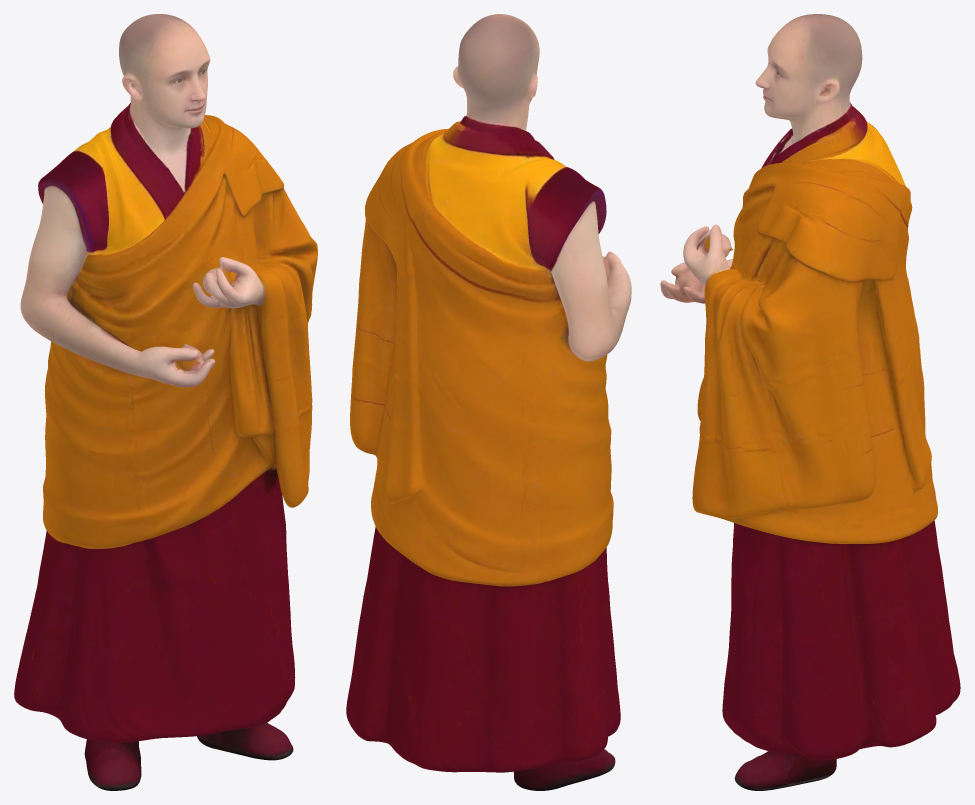
File: monje.glb
The picture shows the model from 3 angles, left to right: view 1: azimuth 30°, elevation 25°; view 2: azimuth 150°, elevation 25°; view 3: azimuth 270°, elevation 25°; orthographic projection. The views are drawn at different scales.
Bounding box in the file's own units: 0.7029 × 1.9 × 0.7092.
1 material, 1 textured.
